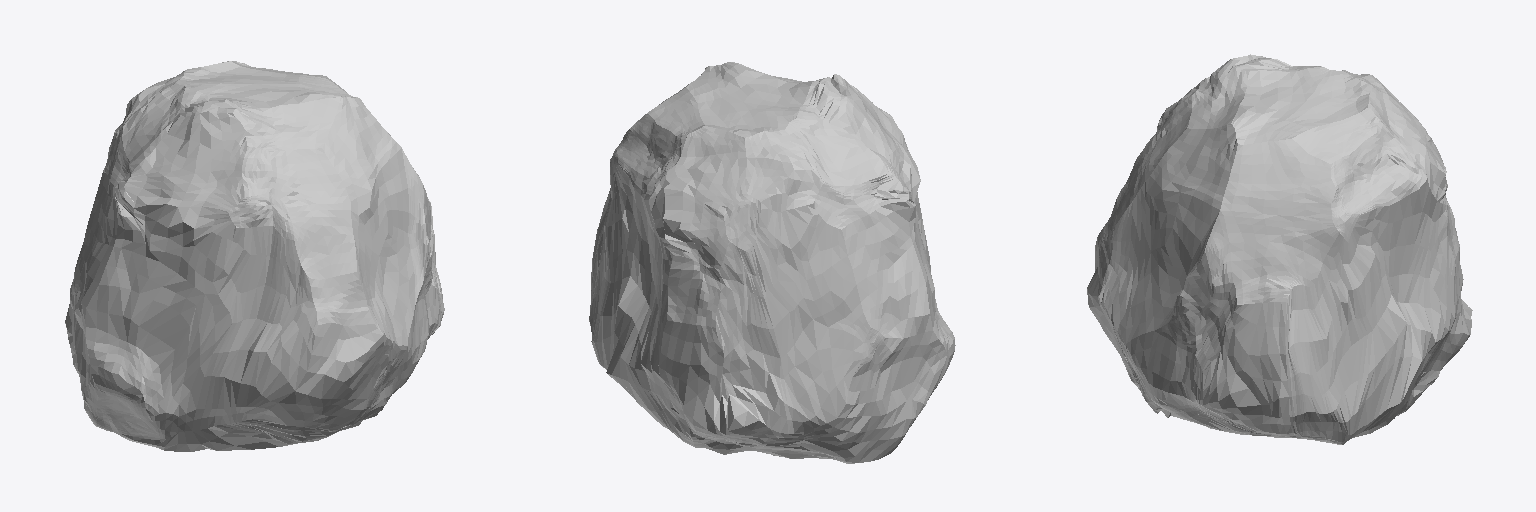
Rendered from Rock_02_Hite.OBJ.
3 renders of one model, left to right at view 1: azimuth 30°, elevation 25°; view 2: azimuth 150°, elevation 25°; view 3: azimuth 270°, elevation 25°, orthographic.
Visible parts, largest first — view 1: Group2; view 2: Group2; view 3: Group2.
Part boxes in pixels (bbox=[...]): Group2: bbox=[65, 61, 444, 451]; Group2: bbox=[589, 62, 955, 463]; Group2: bbox=[1087, 54, 1472, 444].
Size of the model in its own units: 18.89 by 18.3 by 18.27.